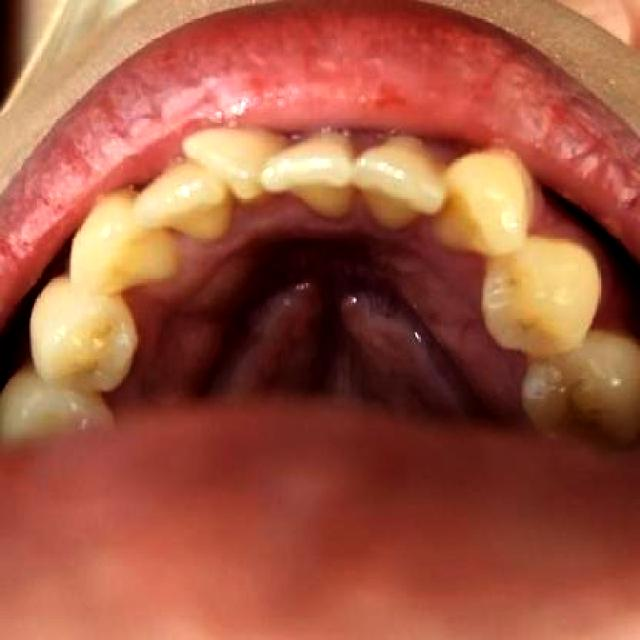Plaque: (498, 269, 543, 337)
